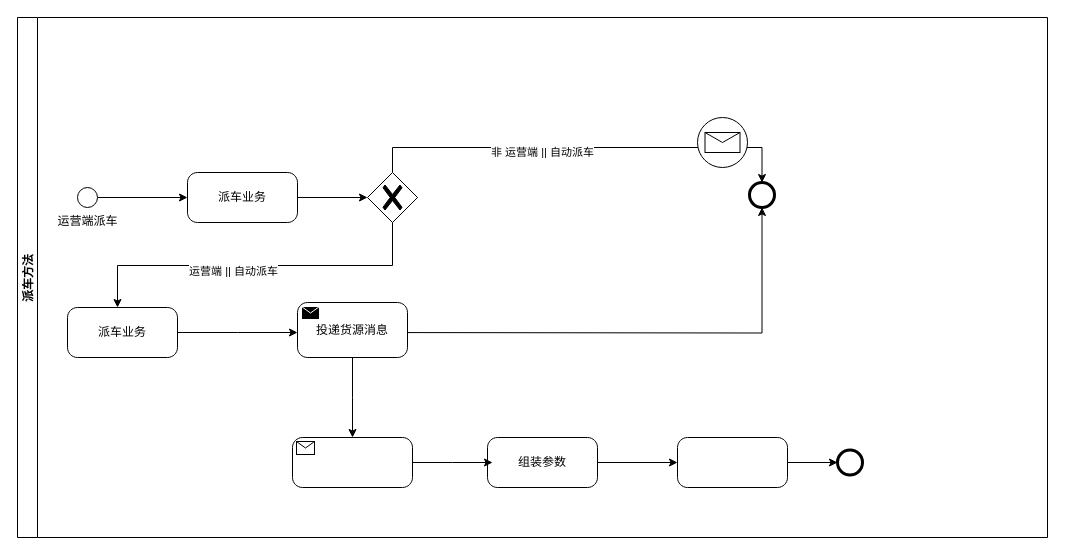
Some shapes in this 1065 by 555 pixel diagram are drawn without their labels. The shapes that lost their labels are listed below. From the top down, each one's centre as x and y in pixels, then its label:
(392,197): 派车来源
(352,462): 监听货源消息
(732,462): 请求有货
